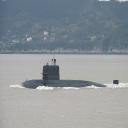submarine: (22, 58, 120, 90)
